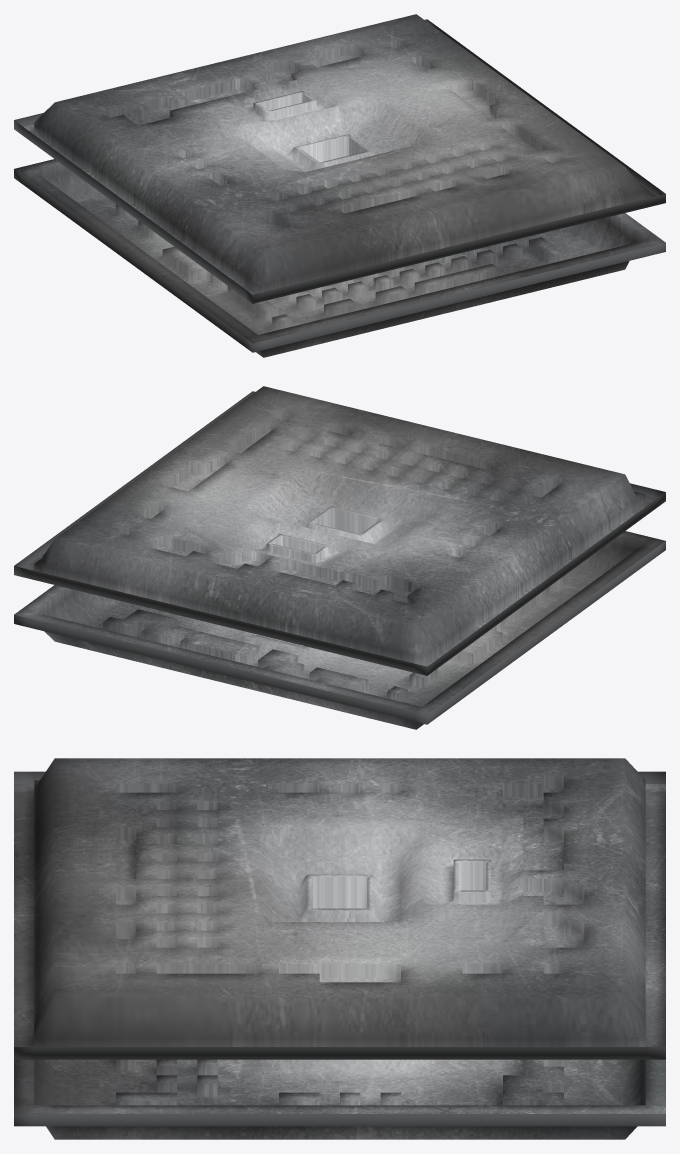
Rendered from pieza15.fbx.
3 renders of one model, top to bottom at view 1: azimuth 30°, elevation 25°; view 2: azimuth 150°, elevation 25°; view 3: azimuth 270°, elevation 25°, orthographic. The views are drawn at different scales.
Parts seen in each view (by area): view 1: Plane.014; view 2: Plane.014; view 3: Plane.014.
Boxes of the visible parts, left/top/right/bottom form: Plane.014: left=14, top=14, right=665, bottom=357; Plane.014: left=14, top=386, right=665, bottom=729; Plane.014: left=14, top=758, right=665, bottom=1139.
Bounding box in the file's own units: 273 × 64.74 × 273.
2 materials, 2 textured.
